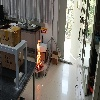fire: (36, 39, 43, 69)
